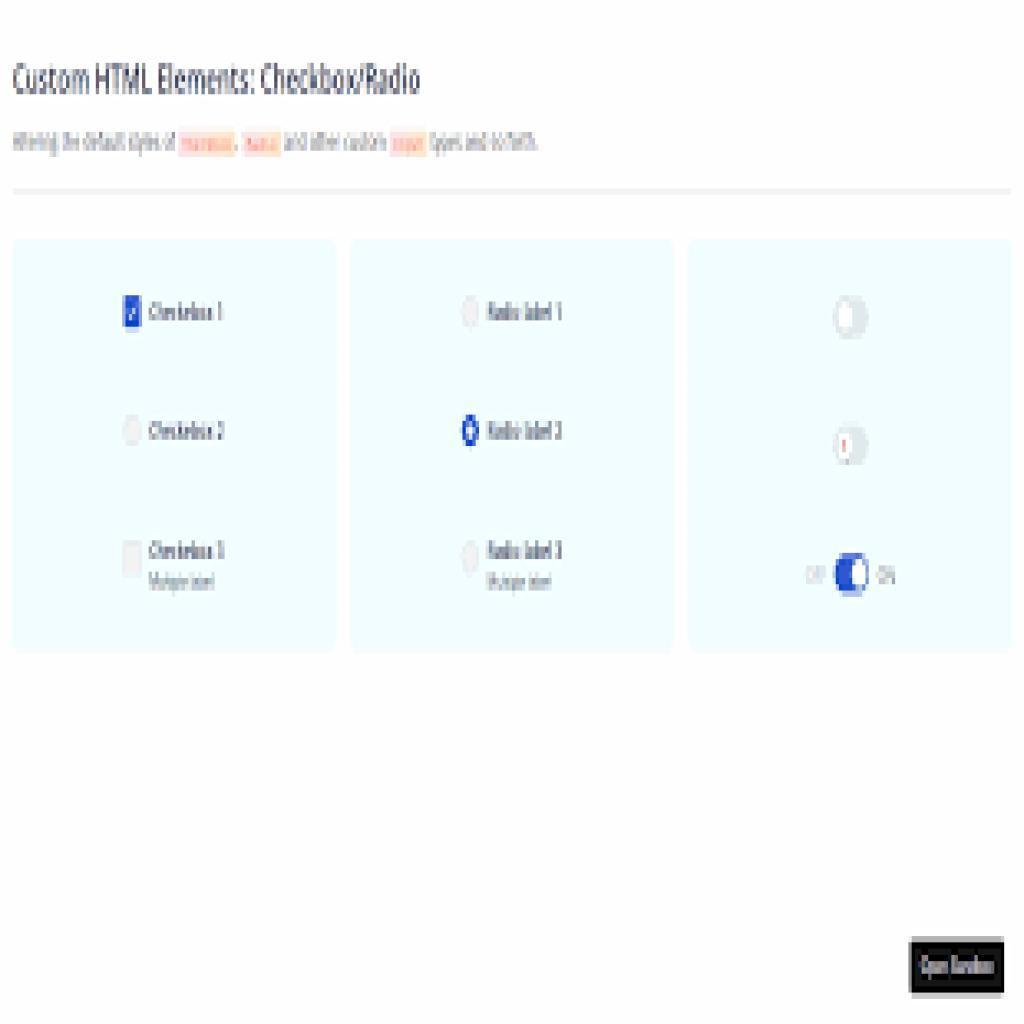button: (912, 937, 1005, 996)
checkbox: (122, 414, 145, 454), (122, 545, 143, 587), (123, 293, 143, 331)
radio: (459, 537, 484, 579), (462, 411, 483, 456), (462, 296, 483, 333)
switch: (831, 296, 873, 345), (833, 553, 876, 598), (836, 423, 874, 471)
